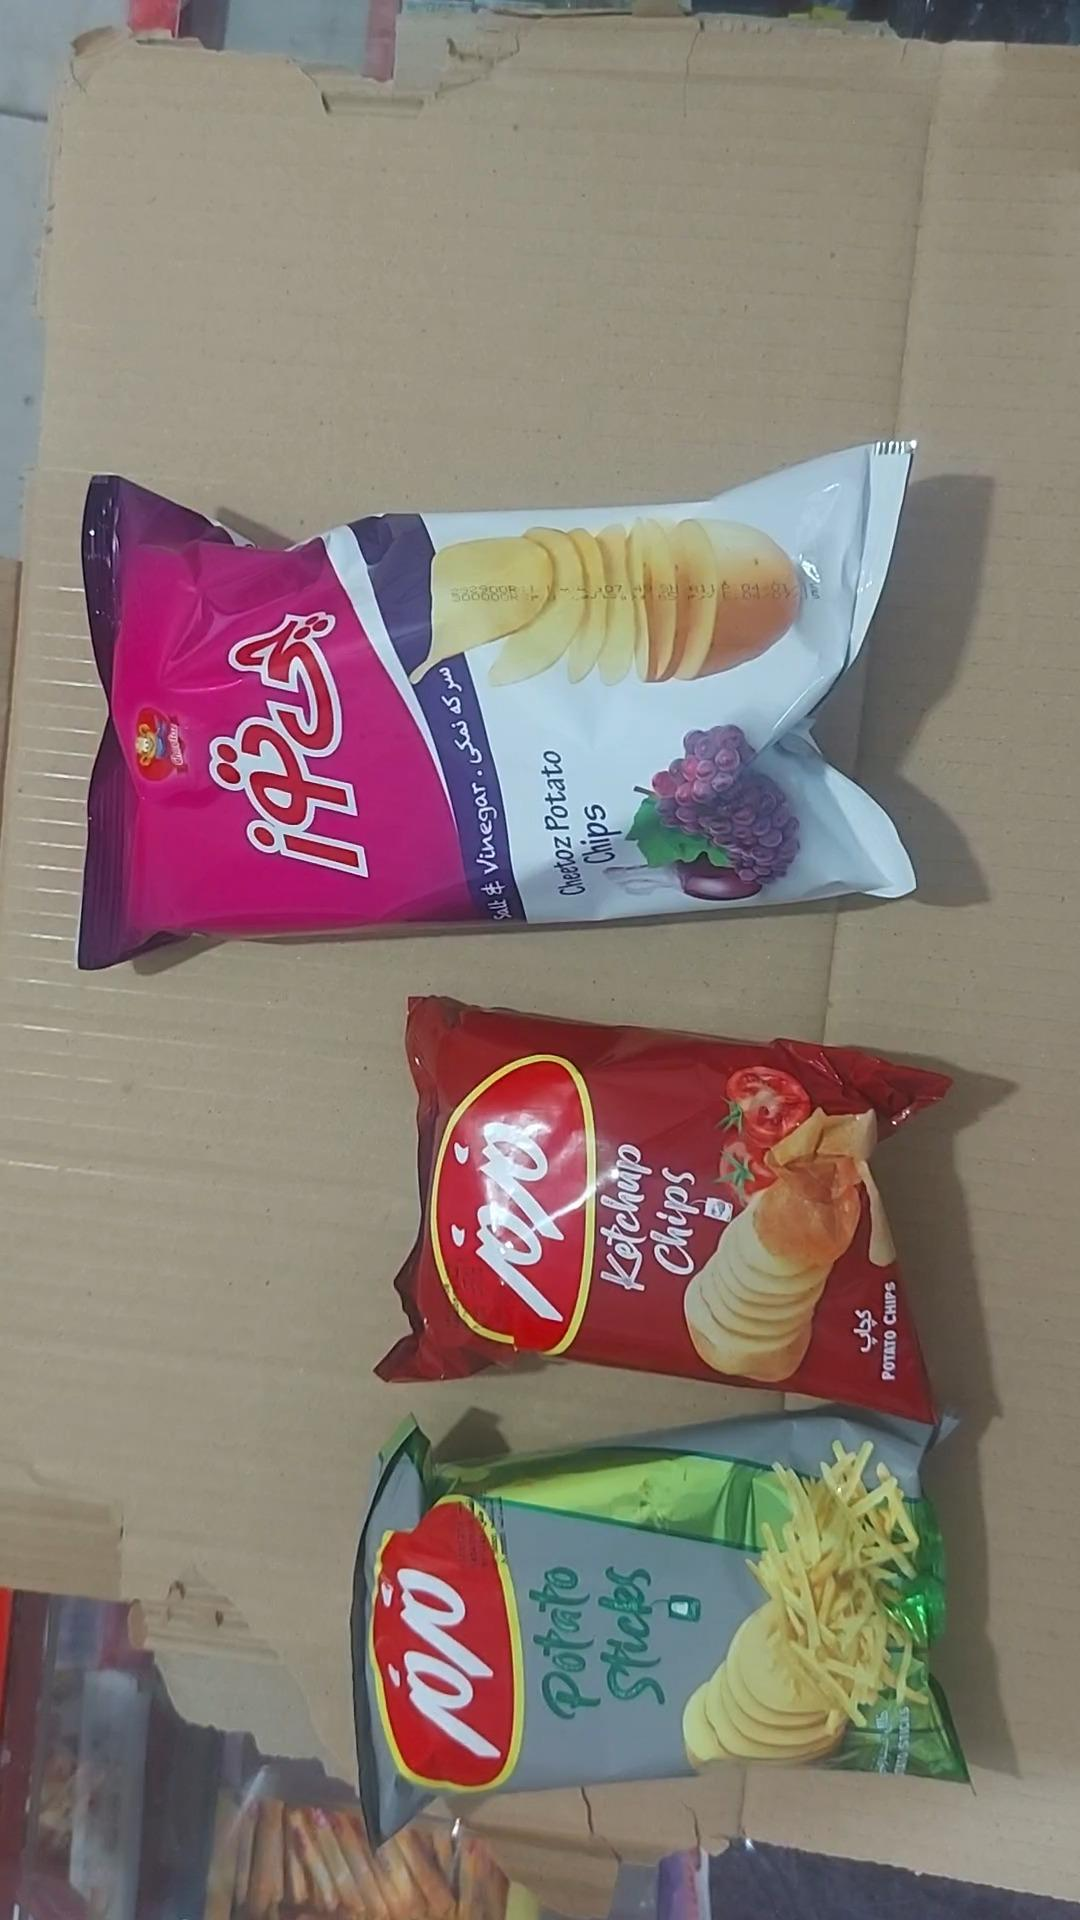Cheetoz vinegar chips: (75, 442, 918, 973)
Maz Maz ketchup chips: (373, 997, 955, 1429)
Maz Maz potato sticks: (348, 1403, 971, 1849)
